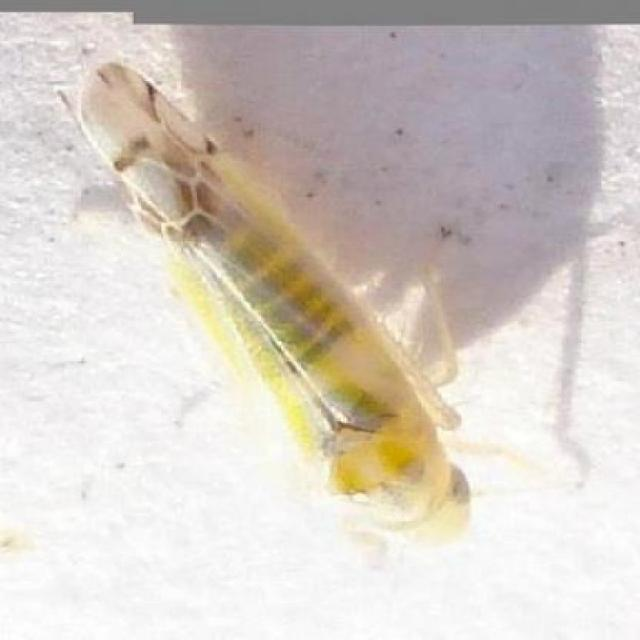green-leafhopper: (55, 56, 557, 557)
